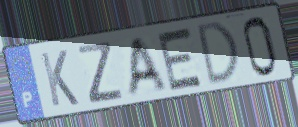0: (240, 14, 280, 78)
A: (125, 34, 169, 100)
D: (196, 19, 243, 89)
E: (155, 24, 206, 94)
K: (38, 48, 81, 109)
Z: (76, 39, 125, 106)
